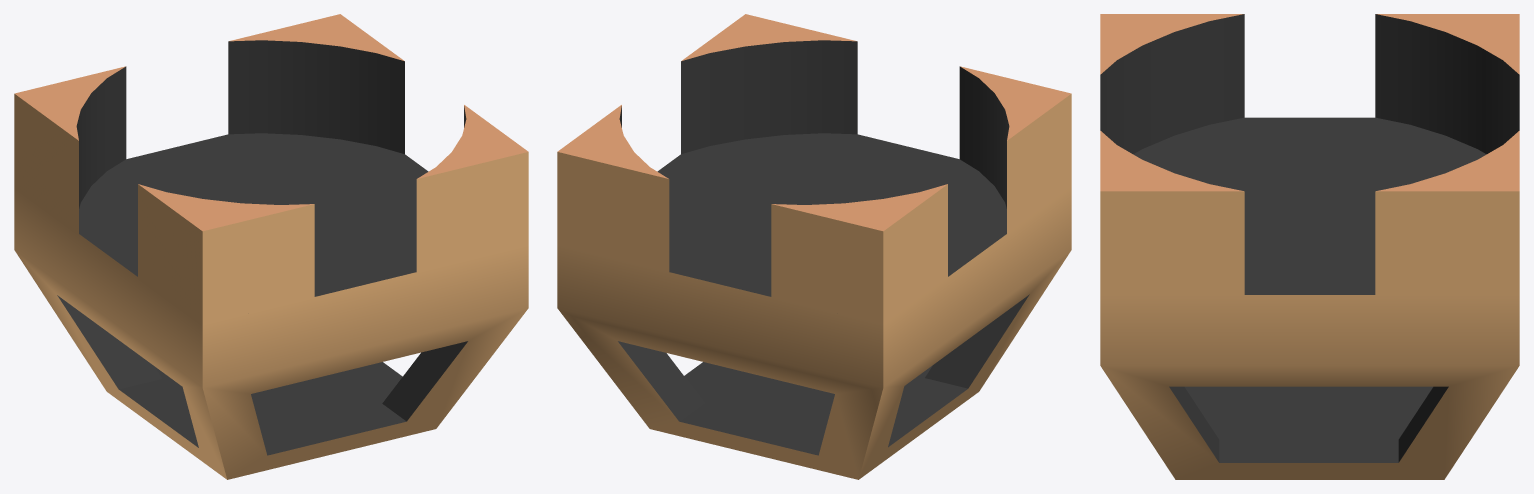
File: kenur.fbx
3 renders of one model, left to right at view 1: azimuth 30°, elevation 25°; view 2: azimuth 150°, elevation 25°; view 3: azimuth 270°, elevation 25°, orthographic. The views are drawn at different scales.
Visible parts, largest first — view 1: Cube; view 2: Cube; view 3: Cube.
Boxes of the visible parts, x1,y1,x2,y2 form: Cube: [14, 14, 528, 479]; Cube: [557, 14, 1071, 479]; Cube: [1100, 14, 1519, 479].
Size of the model in its own units: 312 by 263 by 312.
